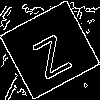Z: (25, 25, 73, 81)
